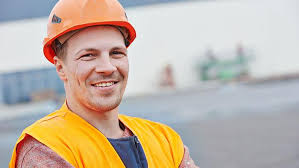hard hat: (43, 1, 136, 64)
